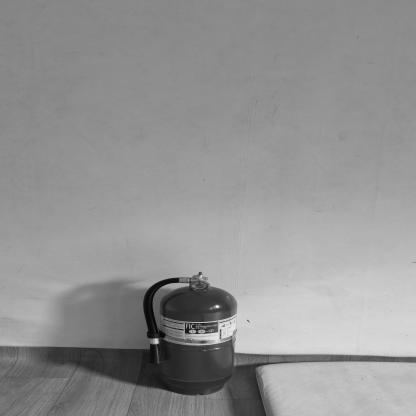FE: (145, 275, 239, 398)
